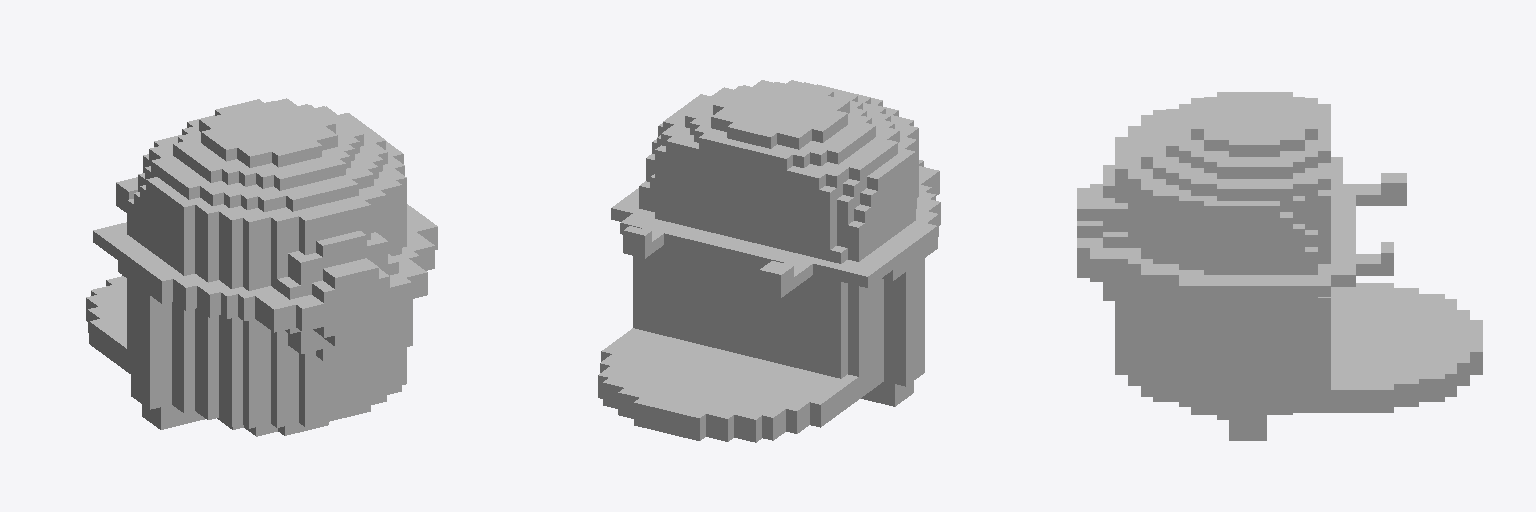
The model's file is Package Base.obj.
3 views of the same model, side by side, from view 1: azimuth 30°, elevation 25°; view 2: azimuth 150°, elevation 25°; view 3: azimuth 270°, elevation 25° (orthographic).
Visible parts, largest first — view 1: object 1; view 2: object 1; view 3: object 1.
Boxes of the visible parts, <box> form: object 1: <box>86,98,437,436</box>; object 1: <box>598,80,940,442</box>; object 1: <box>1077,92,1482,440</box>.
Bounding box in the file's own units: 2.4 × 2.4 × 3.2.